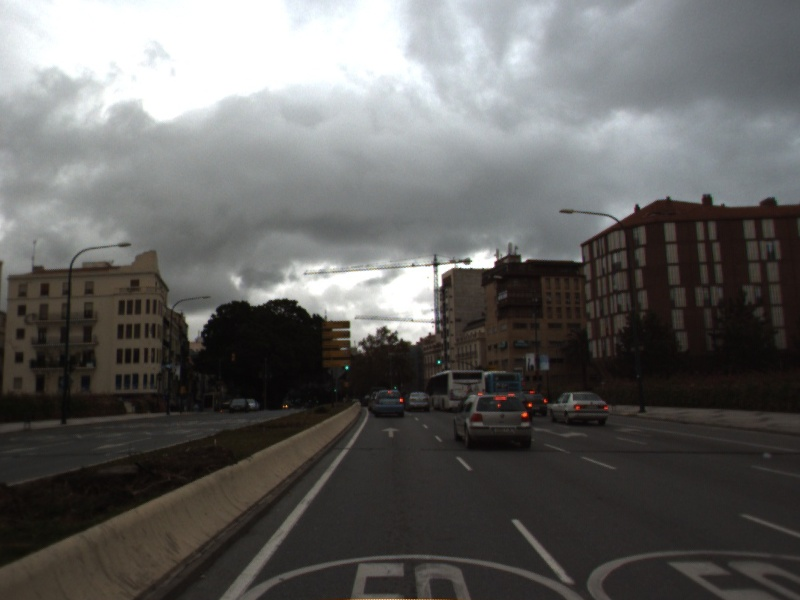RIGHT: (613, 425, 655, 439)
STRAIGHT: (379, 425, 403, 440)
STRAIGHT_RIGHT: (531, 425, 590, 440)
